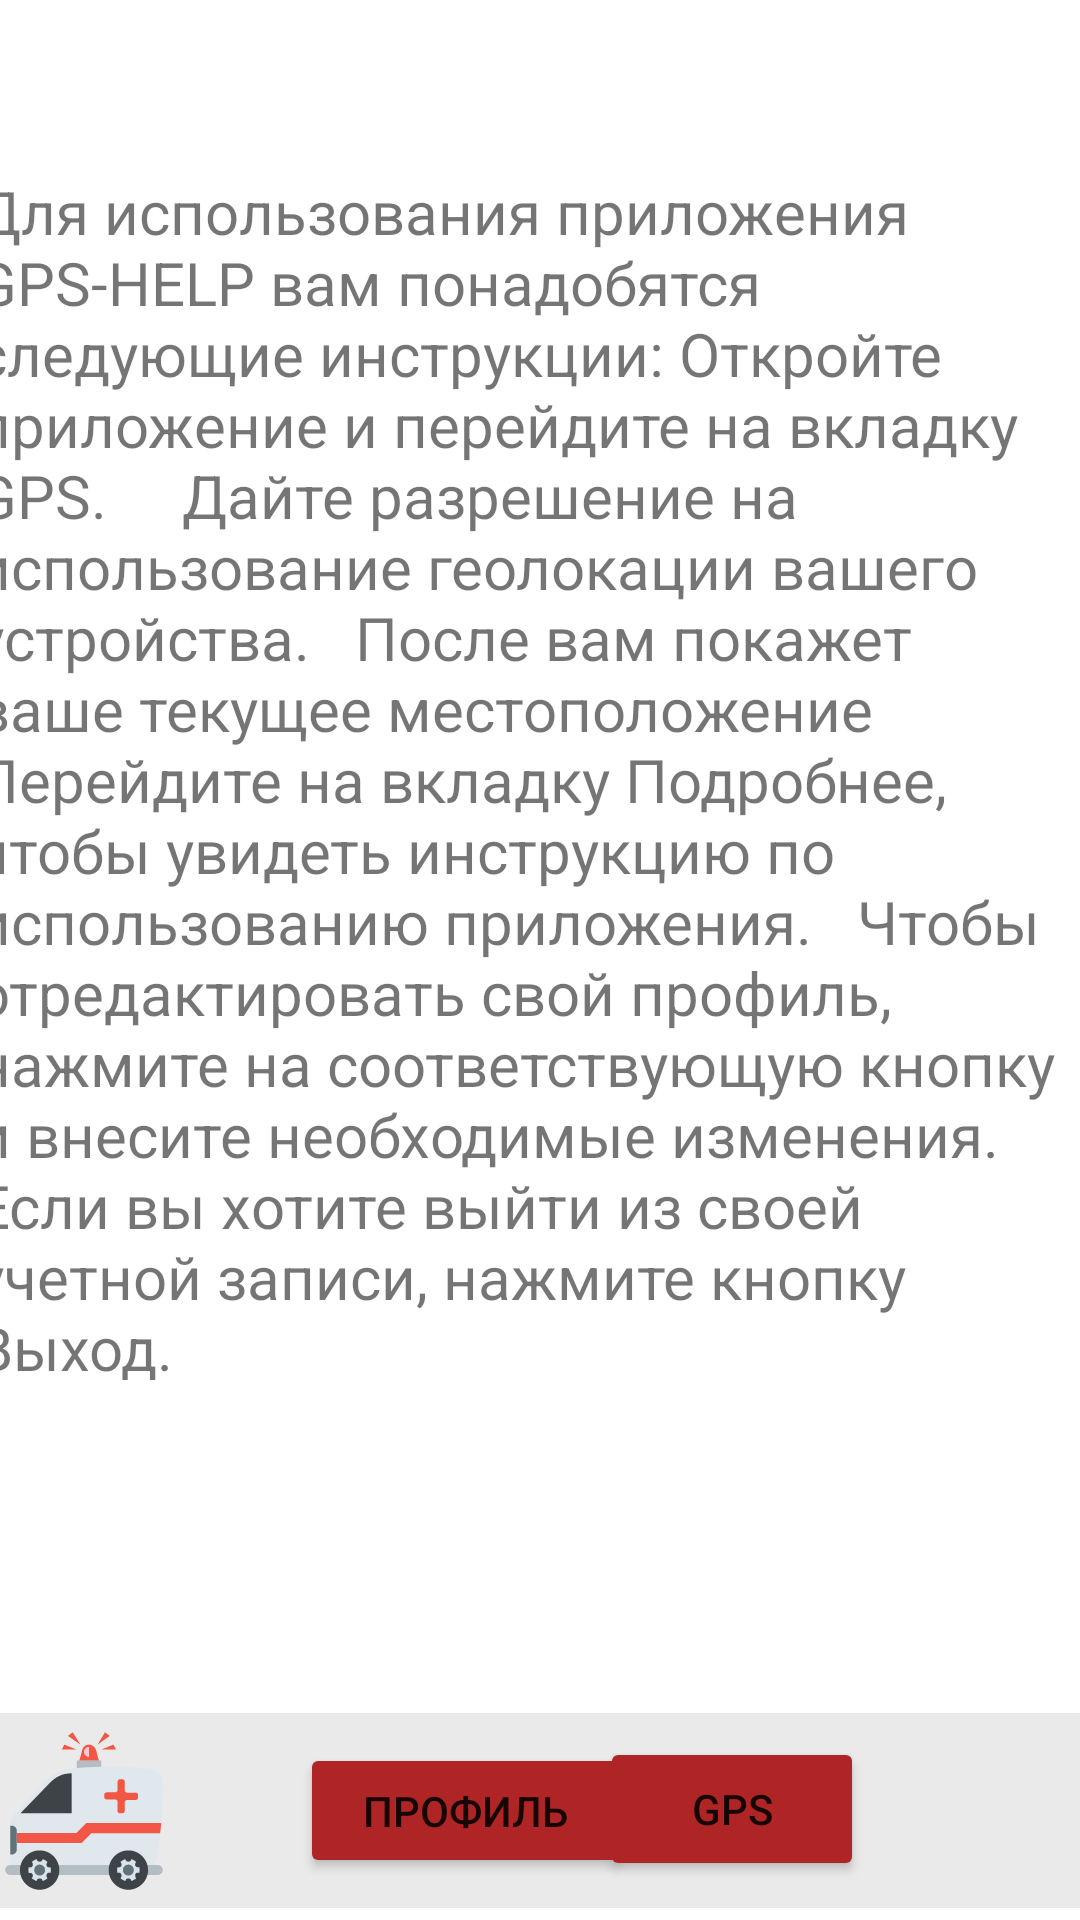

Locate icon controls on the screen. Image size 1080px×1920px, boxes as box(x1, y1, x2, y2).
scoraya: box(5, 1732, 163, 1890)
